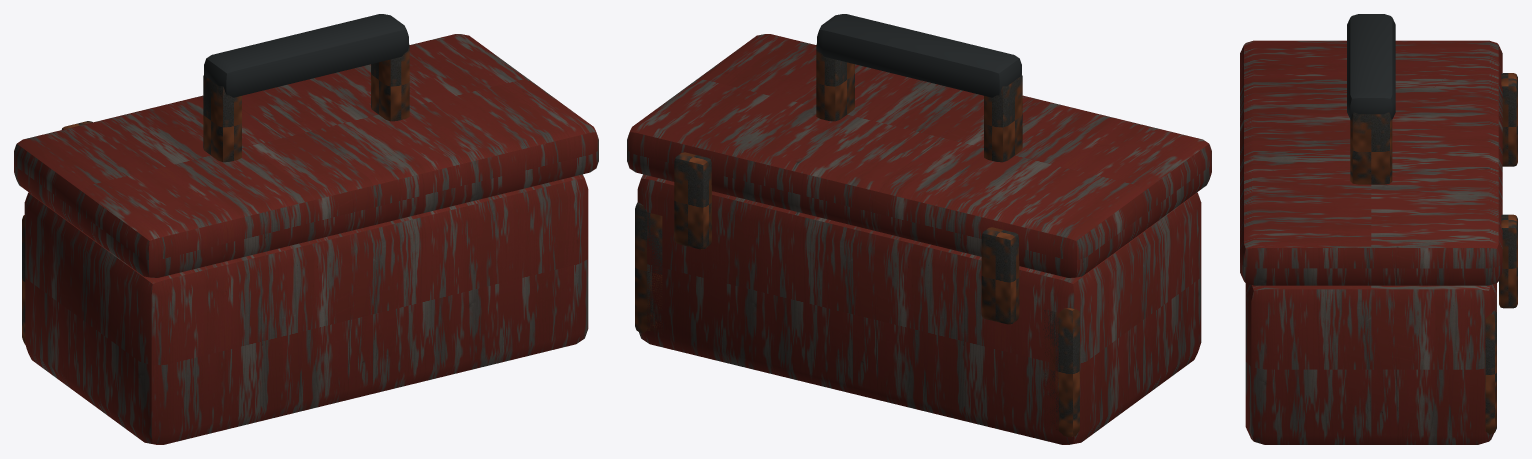
File: SM_MechanicToolCase_83d66197c4.fbx
3 views of the same model, side by side, from view 1: azimuth 30°, elevation 25°; view 2: azimuth 150°, elevation 25°; view 3: azimuth 270°, elevation 25° (orthographic). The views are drawn at different scales.
Parts seen in each view (by area): view 1: SM_MechanicToolCase_83d66197c4; view 2: SM_MechanicToolCase_83d66197c4; view 3: SM_MechanicToolCase_83d66197c4.
Part boxes in pixels (x1=…): SM_MechanicToolCase_83d66197c4: x1=14, y1=14, x2=598, y2=444; SM_MechanicToolCase_83d66197c4: x1=627, y1=14, x2=1211, y2=444; SM_MechanicToolCase_83d66197c4: x1=1240, y1=14, x2=1517, y2=444.
Size of what is drawn, in the model's own units: 65.5 by 36.5 by 42.95.
Materials: 3 (2 with a texture image).
